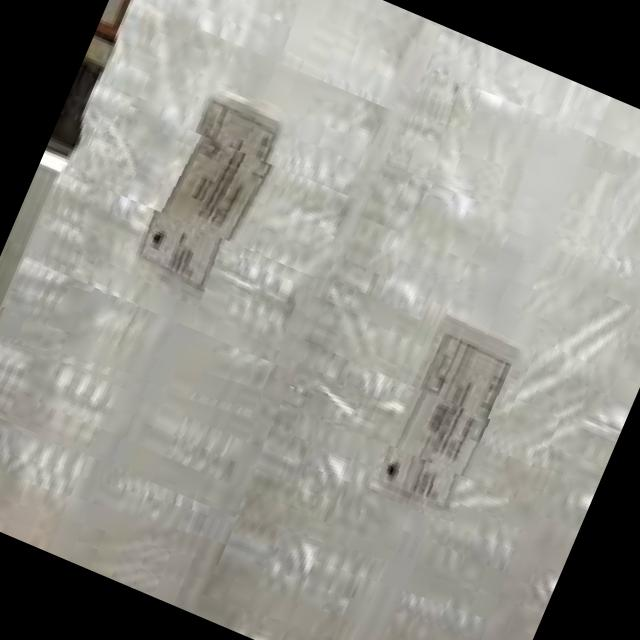plastic bottle: (73, 50, 378, 281), (37, 150, 335, 368), (0, 223, 288, 444), (112, 0, 418, 206), (250, 384, 552, 586), (0, 374, 252, 613), (0, 304, 274, 516), (286, 313, 562, 501), (197, 488, 517, 640), (392, 68, 640, 260), (353, 160, 621, 337), (320, 239, 549, 424), (137, 0, 432, 110)
